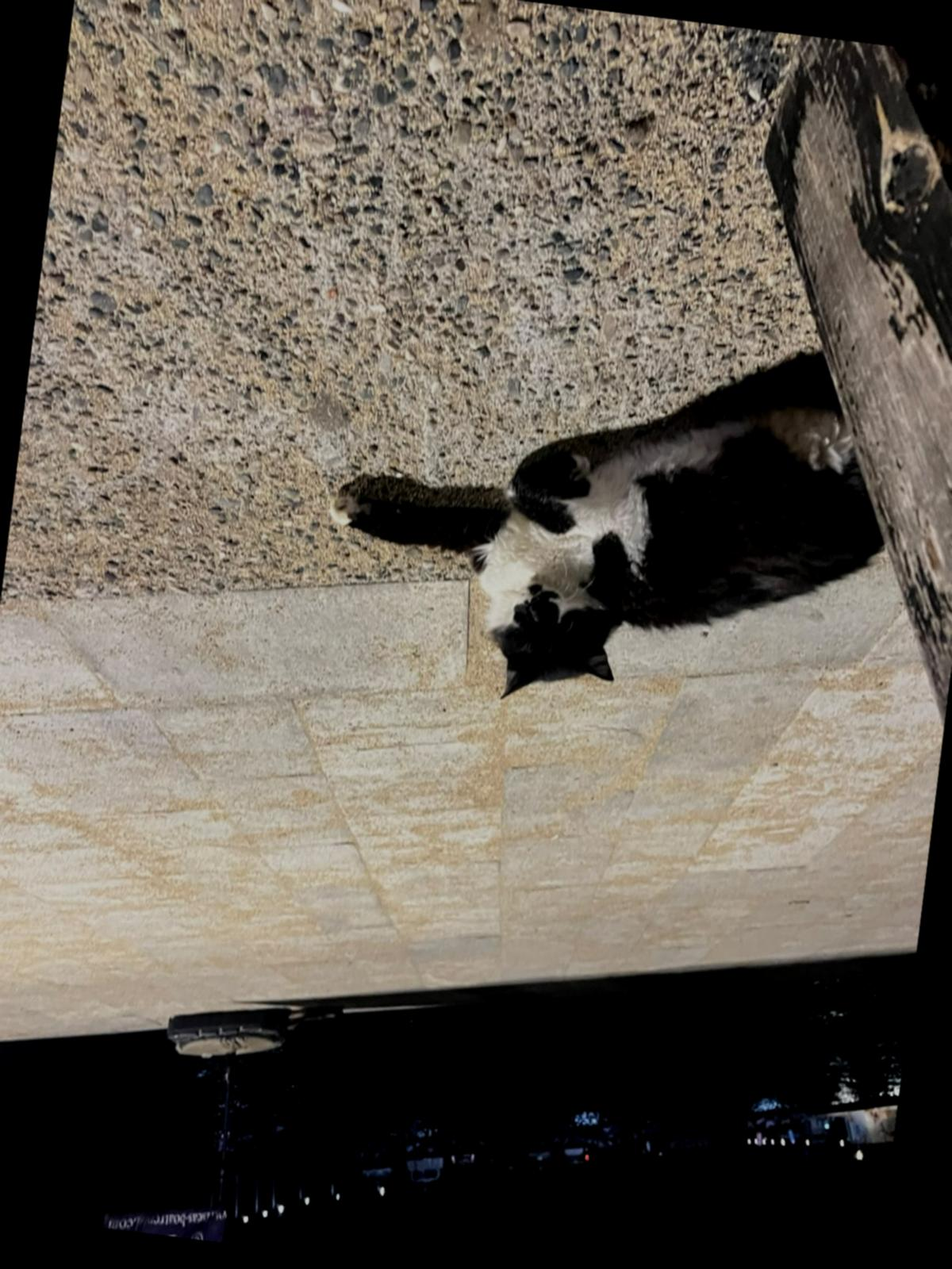macka: (313, 350, 900, 747)
